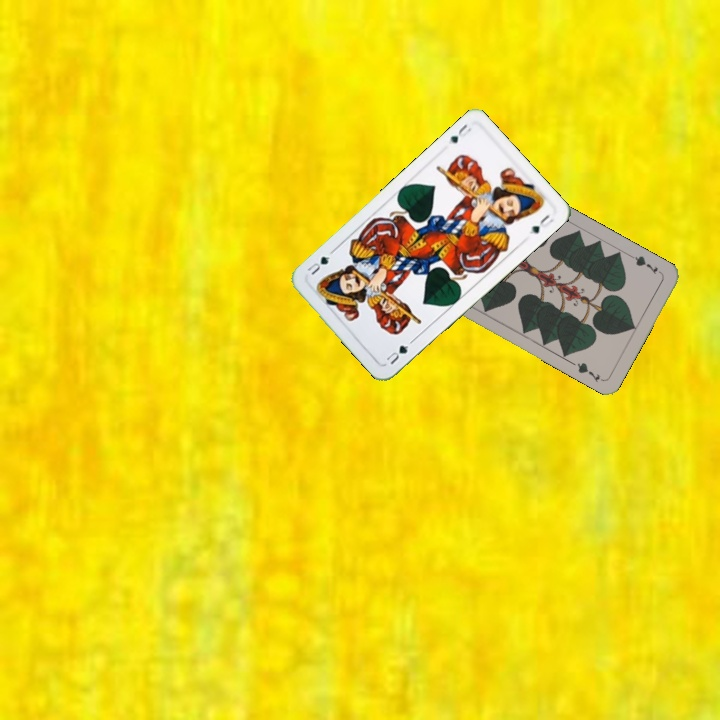G7: (627, 251, 665, 277)
GU: (444, 120, 474, 147), (382, 341, 411, 367)
